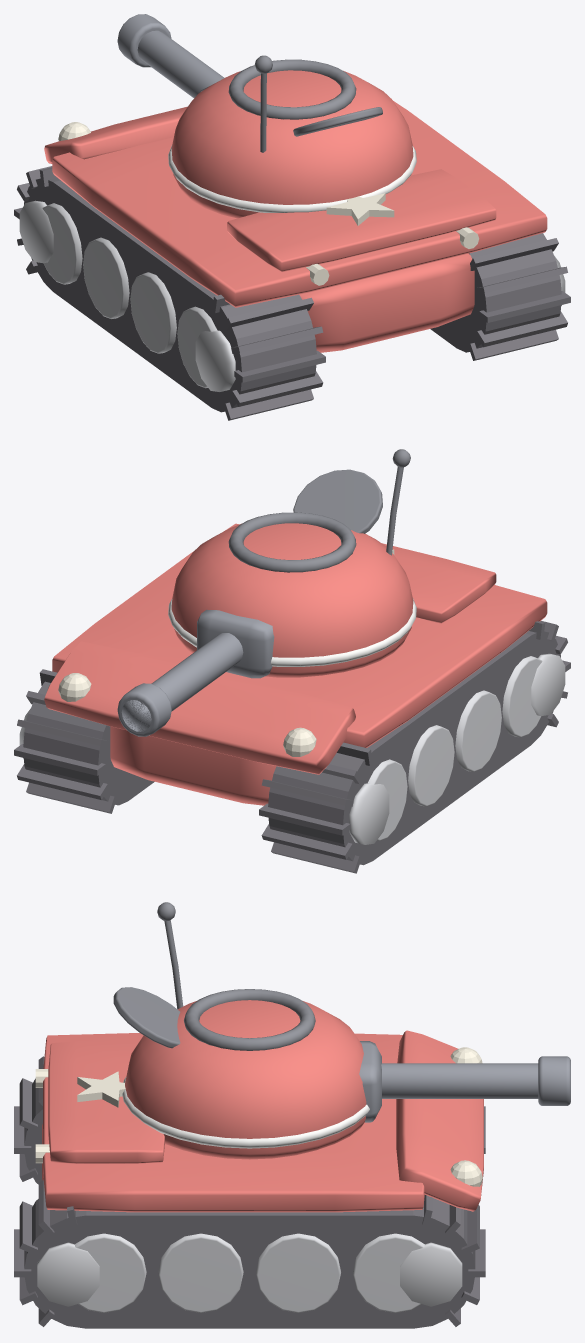
Rendered from TanksTank.glb.
3 renders of one model, top to bottom at view 1: azimuth 30°, elevation 25°; view 2: azimuth 150°, elevation 25°; view 3: azimuth 270°, elevation 25°, orthographic. The views are drawn at different scales.
Visible parts, largest first — view 1: Body, Tracks, Turret, Wheels, Hatch, Barrel, Trim, Badge; view 2: Body, Tracks, Turret, Wheels, Barrel, Hatch, Badge, Trim; view 3: Body, Tracks, Turret, Wheels, Barrel, Hatch, Trim, Badge.
Part boxes in pixels (<box>): Body: <box>44,101,547,352</box>; Tracks: <box>14,166,570,420</box>; Turret: <box>171,70,413,218</box>; Wheels: <box>19,200,565,391</box>; Hatch: <box>228,55,382,152</box>; Barrel: <box>117,14,224,97</box>; Trim: <box>58,122,479,285</box>; Badge: <box>168,145,416,212</box>; Body: <box>44,523,547,805</box>; Tracks: <box>14,621,570,873</box>; Turret: <box>171,523,413,677</box>; Wheels: <box>19,653,565,844</box>; Barrel: <box>117,609,274,736</box>; Hatch: <box>228,449,410,572</box>; Badge: <box>168,598,416,666</box>; Trim: <box>58,549,394,756</box>; Body: <box>42,1030,483,1212</box>; Tracks: <box>14,1056,485,1328</box>; Turret: <box>125,1000,366,1159</box>; Wheels: <box>37,1233,462,1312</box>; Barrel: <box>359,1041,570,1122</box>; Hatch: <box>113,902,315,1050</box>; Trim: <box>35,1047,482,1186</box>; Badge: <box>122,1077,369,1148</box>.
Size of the model in its own units: 6.8 by 5.76 by 9.36.
